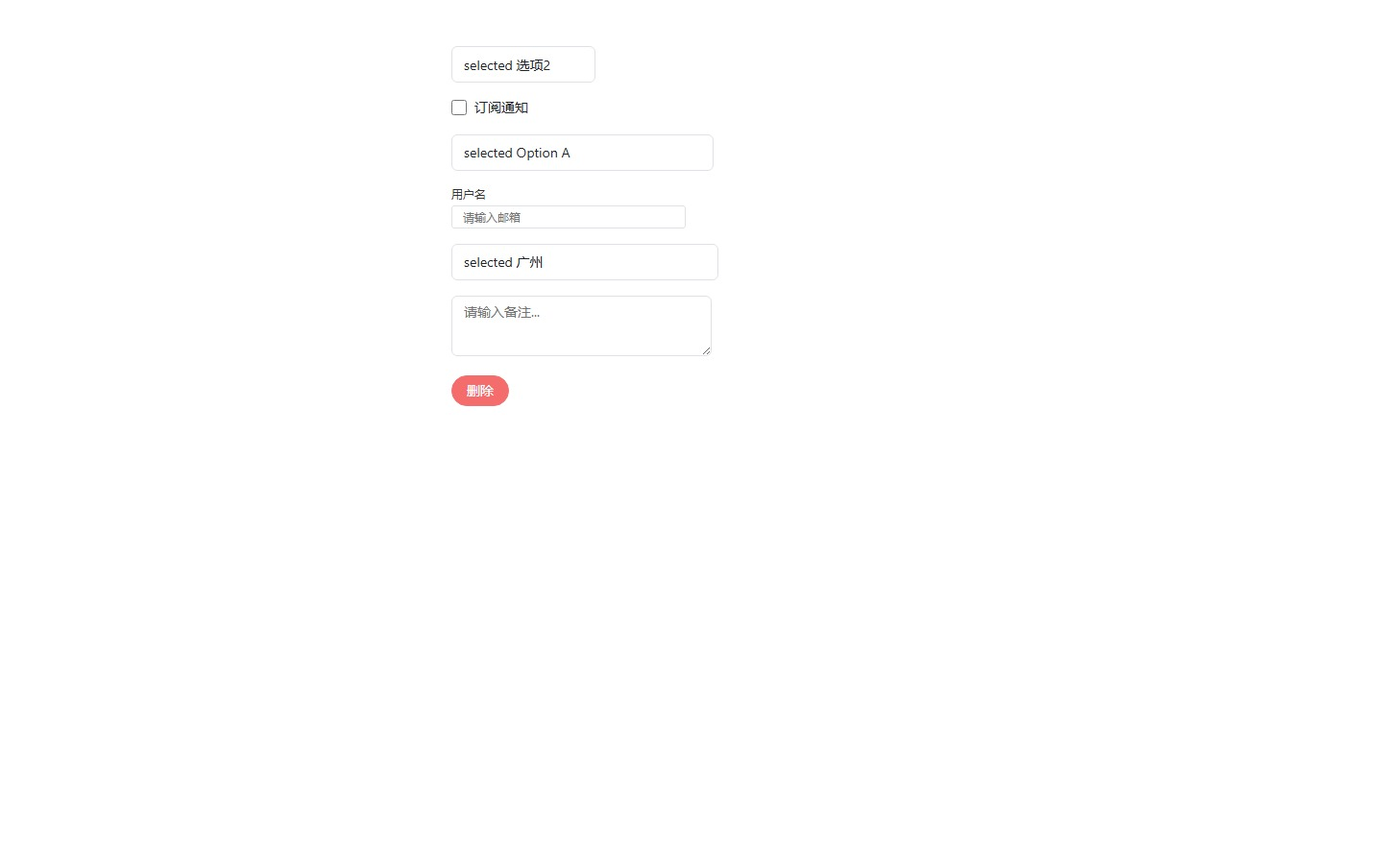button: (451, 375, 509, 406)
checkbox: (451, 99, 467, 115)
icon: (474, 98, 528, 116)
input: (451, 205, 686, 228)
radio: (451, 98, 528, 116)
select: (451, 243, 718, 280), (451, 134, 714, 170), (451, 46, 595, 83)
textarea: (451, 295, 712, 356)
